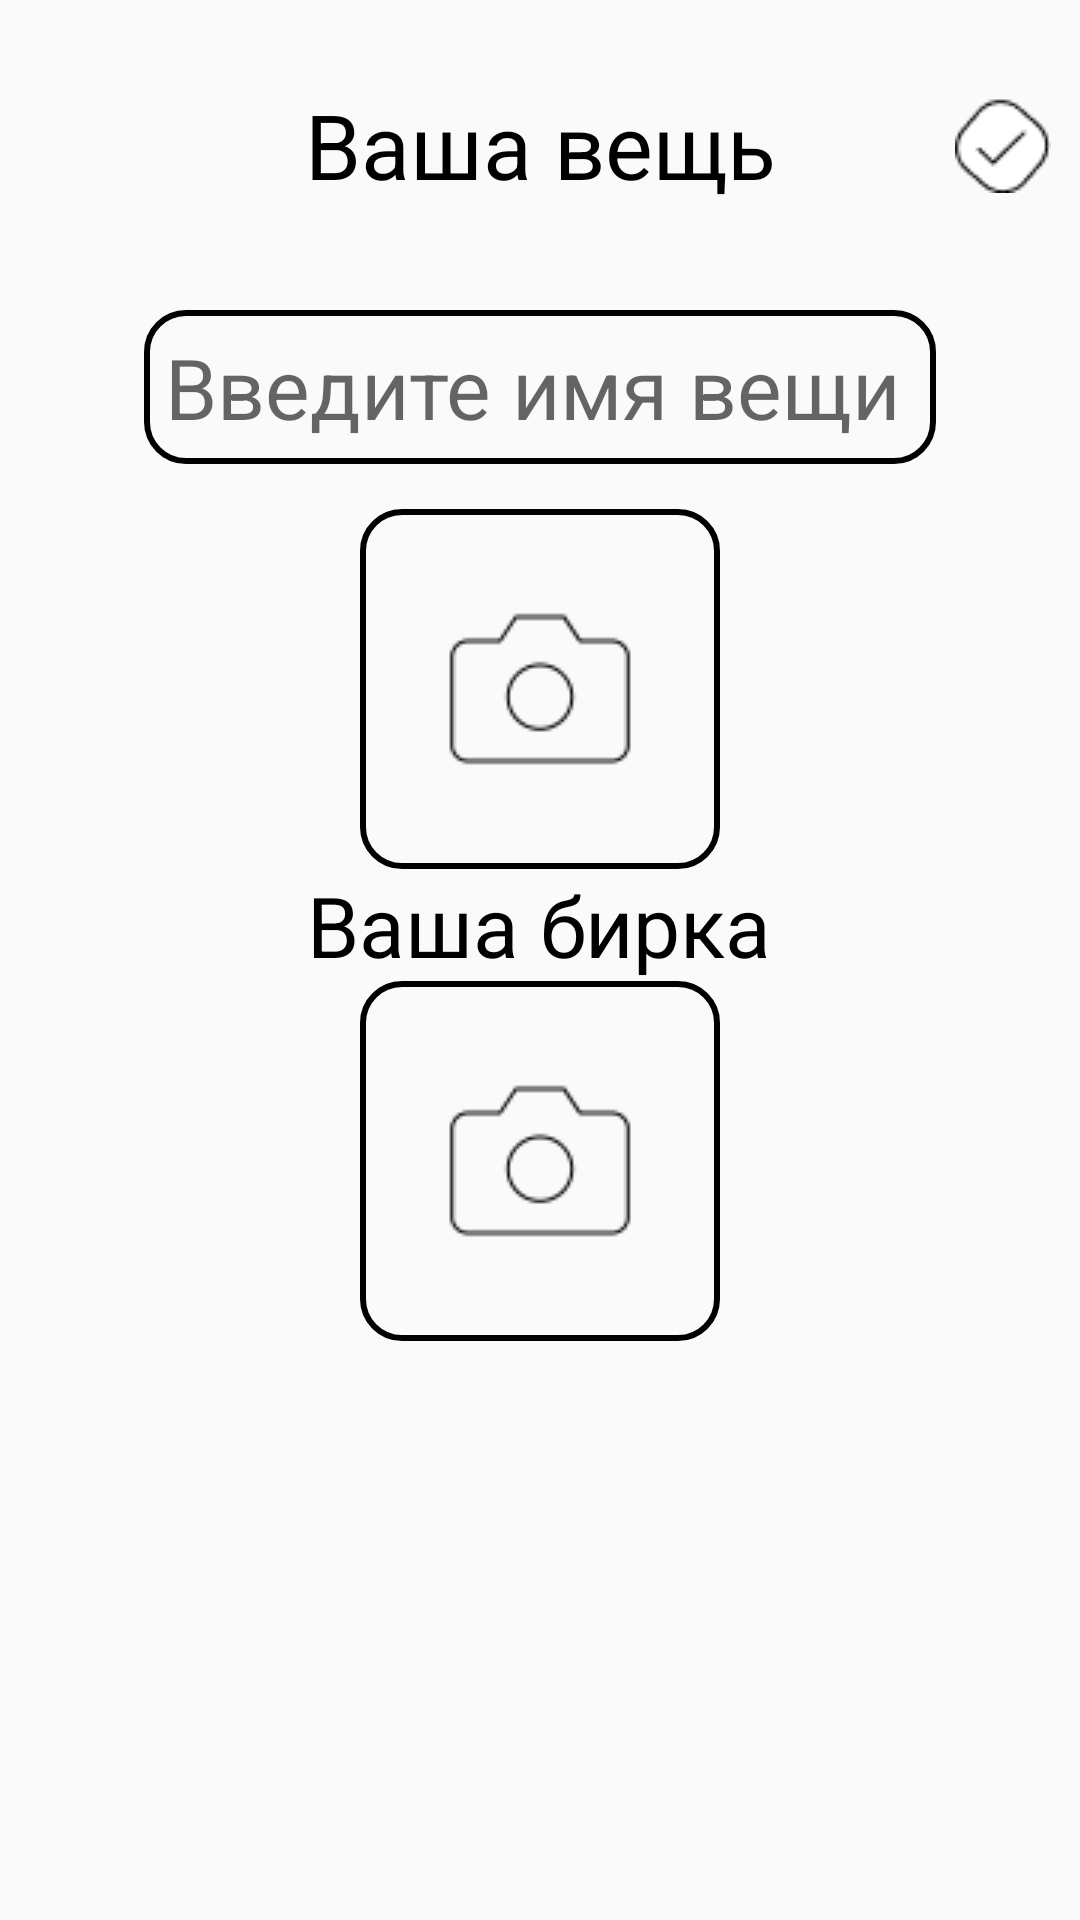

Icon bounding boxes for this 1080 × 1920 phone screenshot, format (x1, y1, x2, y2):
camera add item: (360, 509, 720, 869), (360, 981, 720, 1341)
